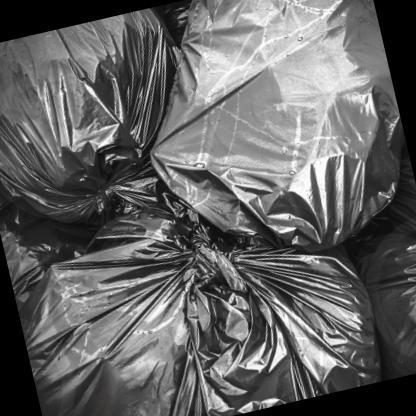Garbage: (9, 195, 382, 415), (125, 0, 415, 270), (0, 0, 230, 249), (344, 194, 415, 381)
